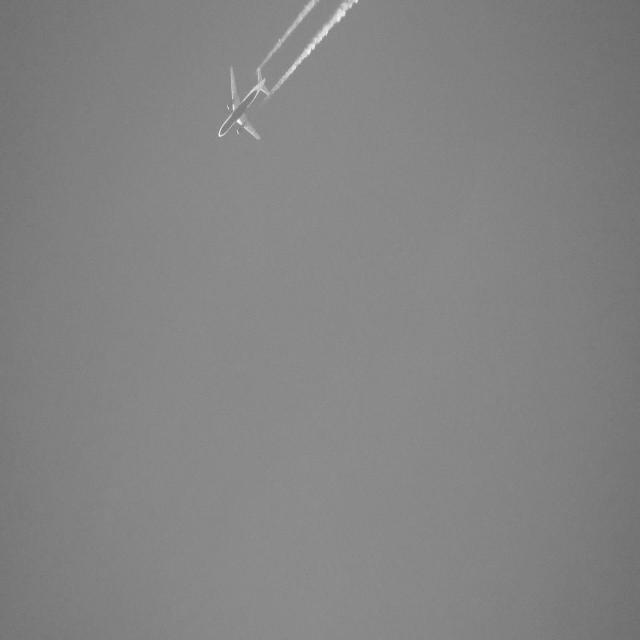aeroplane: (218, 59, 272, 150)
